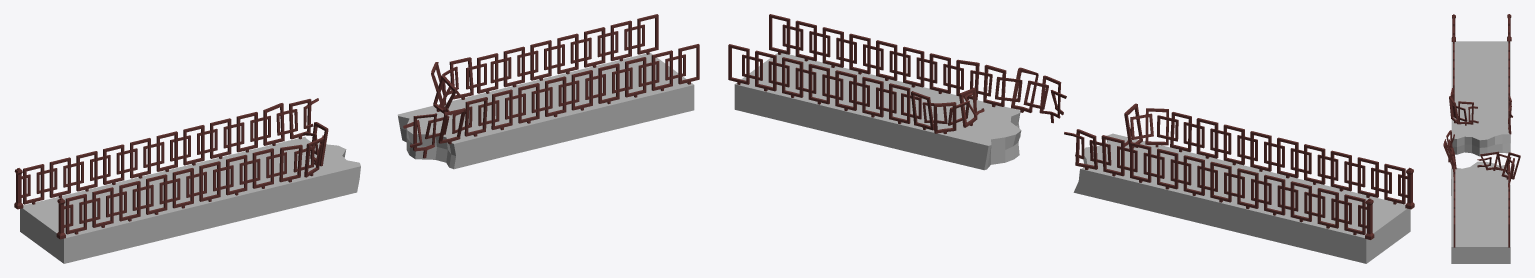
Rendered from Puente_roto_01.fbx.
The picture shows the model from 3 angles, left to right: view 1: azimuth 30°, elevation 25°; view 2: azimuth 150°, elevation 25°; view 3: azimuth 270°, elevation 25°; orthographic projection. The views are drawn at different scales.
Parts seen in each view (by area): view 1: PicduMidi_Escalera_puente, PicduMidi_Escalera_puente.001; view 2: PicduMidi_Escalera_puente, PicduMidi_Escalera_puente.001; view 3: PicduMidi_Escalera_puente, PicduMidi_Escalera_puente.001.
Part boxes in pixels (<box>): PicduMidi_Escalera_puente: <box>20,52,694,263</box>; PicduMidi_Escalera_puente.001: <box>14,14,699,239</box>; PicduMidi_Escalera_puente: <box>734,53,1410,263</box>; PicduMidi_Escalera_puente.001: <box>728,14,1414,239</box>; PicduMidi_Escalera_puente: <box>1451,41,1510,263</box>; PicduMidi_Escalera_puente.001: <box>1443,14,1520,247</box>.
Bounding box in the file's own units: 2886 × 283 × 449.
